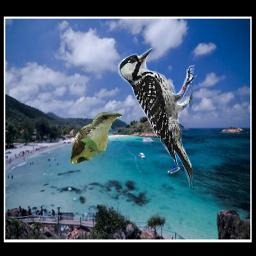Cuckoo: (69, 112, 122, 165)
Woodpecker: (117, 48, 197, 191)
